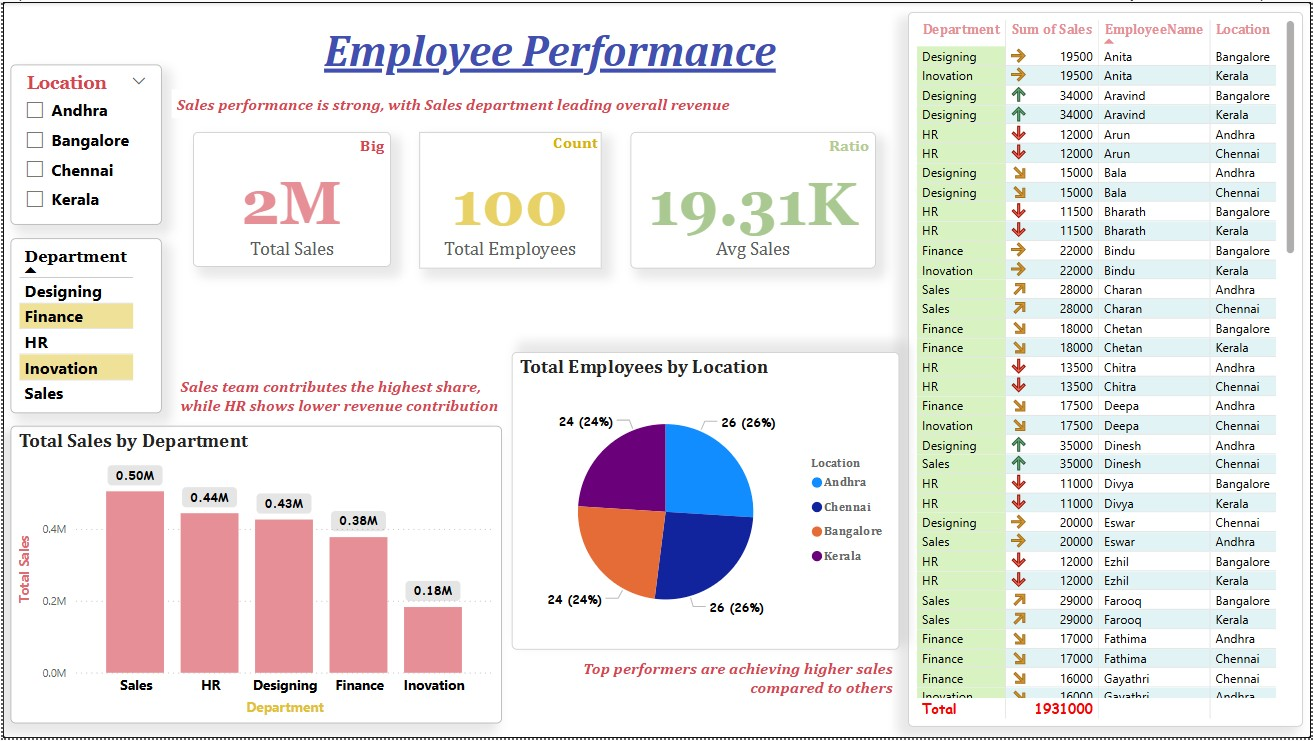

What the dashboard file says about the page in this screenshot:
{"tool":"powerbi","page":{"name":"RLS_Data","canvas":[1280,720],"ordinal":0},"visuals":[{"type":"clusteredColumnChart","fields":{"Y":["RLS_Data.Total Sales"],"Category":["RLS_Data.Department"]},"box":[7.3,414.5,480.6,291],"z":0},{"type":"tableEx","fields":{"Values":["RLS_Data.Department","Sum(RLS_Data.Sales)","RLS_Data.EmployeeName","RLS_Data.Location"]},"box":[885.3,9.8,386.4,699.5],"z":1000},{"type":"slicer","fields":{"Values":["RLS_Data.Location"]},"box":[7.3,61.1,148,156.5],"z":3000},{"type":"tableEx","fields":{"Values":["RLS_Data.Department"]},"box":[7.3,231.1,148,171.2],"z":4000},{"type":"pieChart","fields":{"Category":["RLS_Data.Location"],"Y":["RLS_Data.Total Employees"]},"box":[497.7,342.4,379.1,291],"z":4500},{"type":"textbox","box":[299.2,12.4,470.7,68.6],"z":5000},{"type":"card","title":"Big","fields":{"Values":["RLS_Data.Total Sales"]},"box":[185.9,127.2,193.2,132.1],"z":6000},{"type":"card","title":"Count","fields":{"Values":["RLS_Data.Total Employees"]},"box":[407.2,127.2,178.5,133.3],"z":7000},{"type":"card","title":"Ratio","fields":{"Values":["RLS_Data.Avg Sales"]},"box":[613.9,127.2,239.7,133.3],"z":8000},{"type":"textbox","box":[164.7,85.1,559.9,30.2],"z":9000},{"type":"textbox","box":[168.8,362,330.2,47.7],"z":10000},{"type":"textbox","box":[545.4,637.1,330.2,47.7],"z":11000}]}

Visuals, with their boxes in screenshot pixels (x1, y1, x2, y2), scaled from the page's 1280x720 canvas onto the 1313x741 screenshot:
clusteredColumnChart - RLS_Data.Total Sales x RLS_Data.Department: bbox=(7, 427, 500, 726)
tableEx - RLS_Data.Department x Sum(RLS_Data.Sales): bbox=(908, 10, 1304, 730)
slicer - RLS_Data.Location: bbox=(7, 63, 159, 224)
tableEx - RLS_Data.Department: bbox=(7, 238, 159, 414)
pieChart - RLS_Data.Location x RLS_Data.Total Employees: bbox=(511, 352, 899, 652)
textbox: bbox=(307, 13, 790, 83)
"Big" card: bbox=(191, 131, 389, 267)
"Count" card: bbox=(418, 131, 601, 268)
"Ratio" card: bbox=(630, 131, 876, 268)
textbox: bbox=(169, 88, 743, 119)
textbox: bbox=(173, 373, 512, 422)
textbox: bbox=(559, 656, 898, 705)
